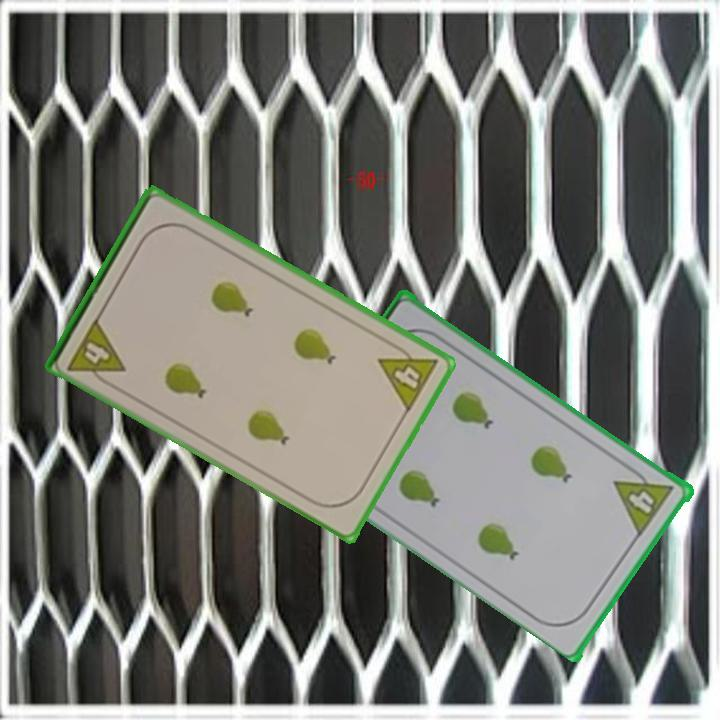4p: (374, 337, 442, 415), (611, 461, 678, 538), (64, 314, 128, 391)
